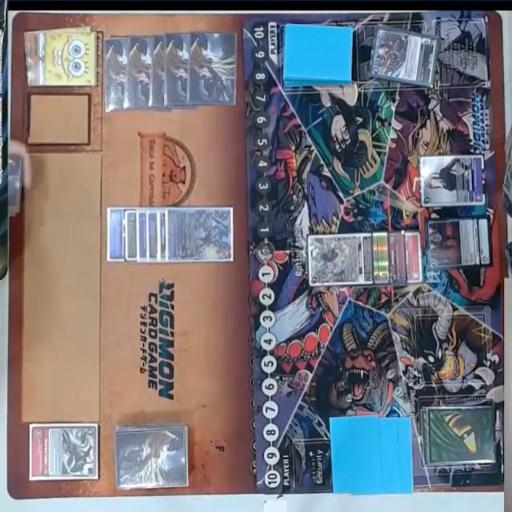card: (369, 25, 439, 87), (29, 423, 98, 479), (424, 215, 492, 271), (168, 207, 234, 263), (306, 232, 372, 286), (420, 156, 487, 205), (105, 210, 130, 264), (155, 208, 175, 261), (372, 232, 391, 285), (145, 208, 163, 262), (136, 203, 152, 263), (391, 231, 408, 285), (125, 209, 139, 265), (406, 231, 420, 282)
